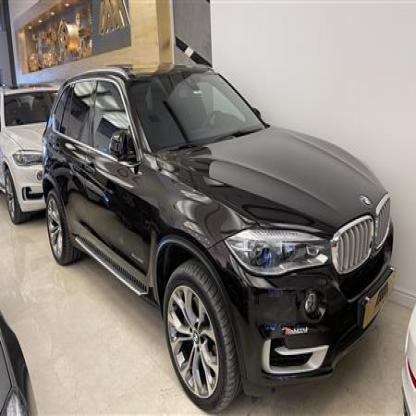Car: (33, 53, 404, 406), (0, 79, 68, 241)
